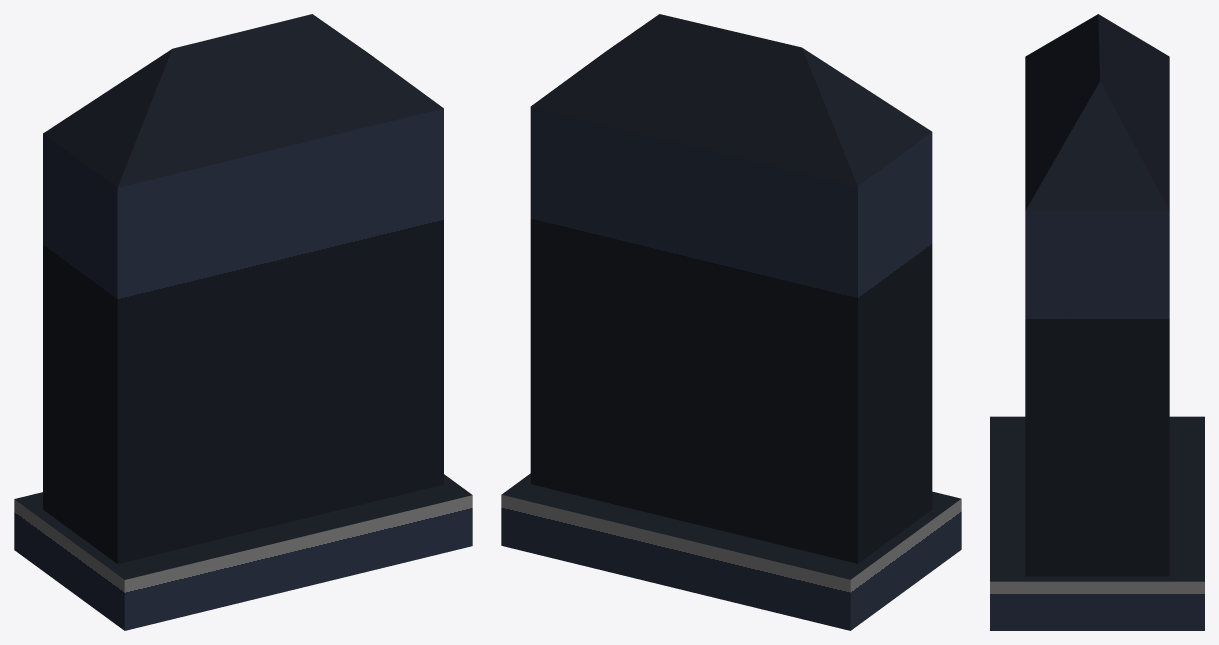
Rendered from Background_Building.fbx.
3 renders of one model, left to right at view 1: azimuth 30°, elevation 25°; view 2: azimuth 150°, elevation 25°; view 3: azimuth 270°, elevation 25°, orthographic. The views are drawn at different scales.
Parts seen in each view (by area): view 1: broad building; view 2: broad building; view 3: broad building.
Boxes of the visible parts, left/top/right/bottom form: broad building: left=14, top=14, right=472, bottom=630; broad building: left=501, top=14, right=961, bottom=630; broad building: left=990, top=14, right=1204, bottom=630.
Bounding box in the file's own units: 540 × 766 × 297.
